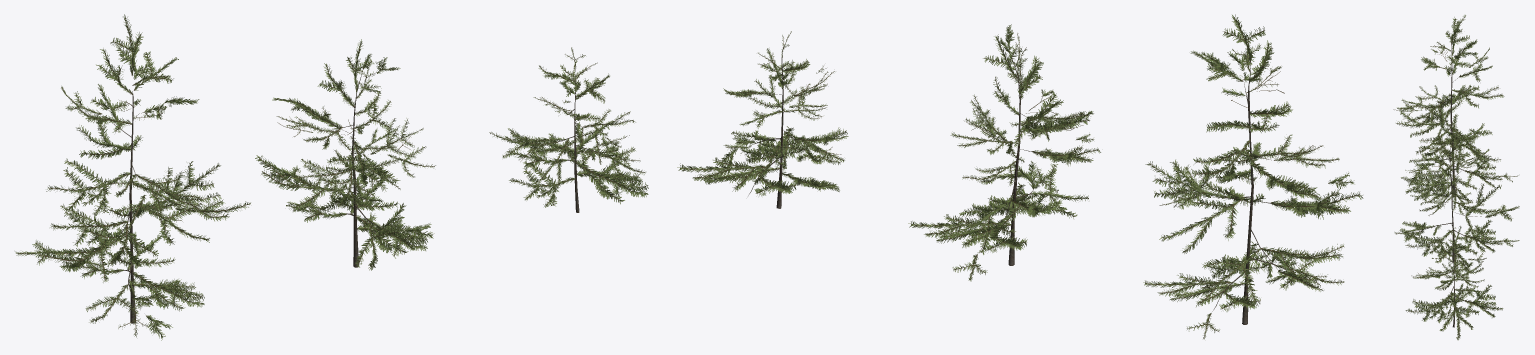
The model's file is fir_sapling.glb.
The picture shows the model from 3 angles, left to right: view 1: azimuth 30°, elevation 25°; view 2: azimuth 150°, elevation 25°; view 3: azimuth 270°, elevation 25°; orthographic projection. The views are drawn at different scales.
Parts seen in each view (by area): view 1: fir_sapling_a, fir_sapling_b, fir_sapling_c; view 2: fir_sapling_a, fir_sapling_b, fir_sapling_c; view 3: fir_sapling_a, fir_sapling_b, fir_sapling_c.
Boxes of the visible parts, x1=… form: fir_sapling_a: x1=15, y1=14, x2=250, y2=340; fir_sapling_b: x1=255, y1=39, x2=435, y2=270; fir_sapling_c: x1=489, y1=47, x2=648, y2=212; fir_sapling_a: x1=1143, y1=14, x2=1363, y2=339; fir_sapling_b: x1=908, y1=24, x2=1100, y2=281; fir_sapling_c: x1=677, y1=31, x2=848, y2=208; fir_sapling_a: x1=1393, y1=15, x2=1518, y2=211; fir_sapling_b: x1=1394, y1=128, x2=1519, y2=276; fir_sapling_c: x1=1405, y1=224, x2=1503, y2=340.
Bounding box in the file's own units: 2.74 × 1.3 × 0.8227.
2 materials, 2 textured.
